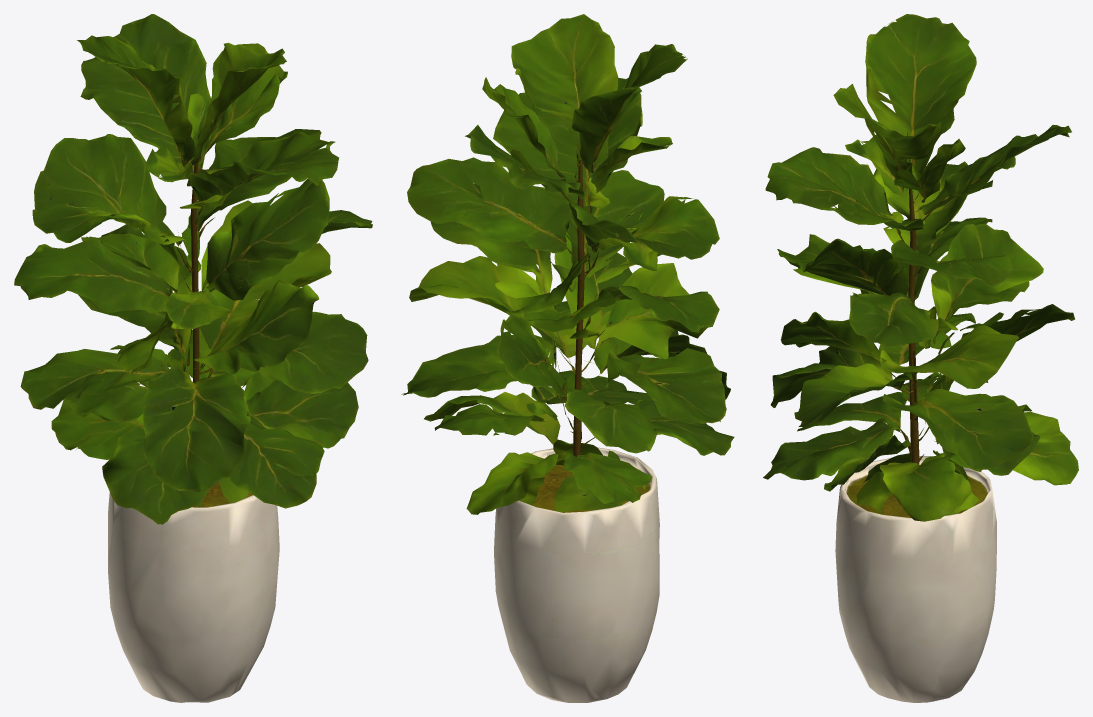
File: mobile.glb
3 views of the same model, side by side, from view 1: azimuth 30°, elevation 25°; view 2: azimuth 150°, elevation 25°; view 3: azimuth 270°, elevation 25° (orthographic). The views are drawn at different scales.
Parts seen in each view (by area): view 1: plant; view 2: plant; view 3: plant.
Boxes of the visible parts, left/top/right/bottom form: plant: left=14, top=14, right=372, bottom=702; plant: left=401, top=14, right=734, bottom=702; plant: left=763, top=14, right=1078, bottom=702.
Size of the model in its own units: 0.5976 by 1.2 by 0.5539.
Materials: 1 (1 with a texture image).
